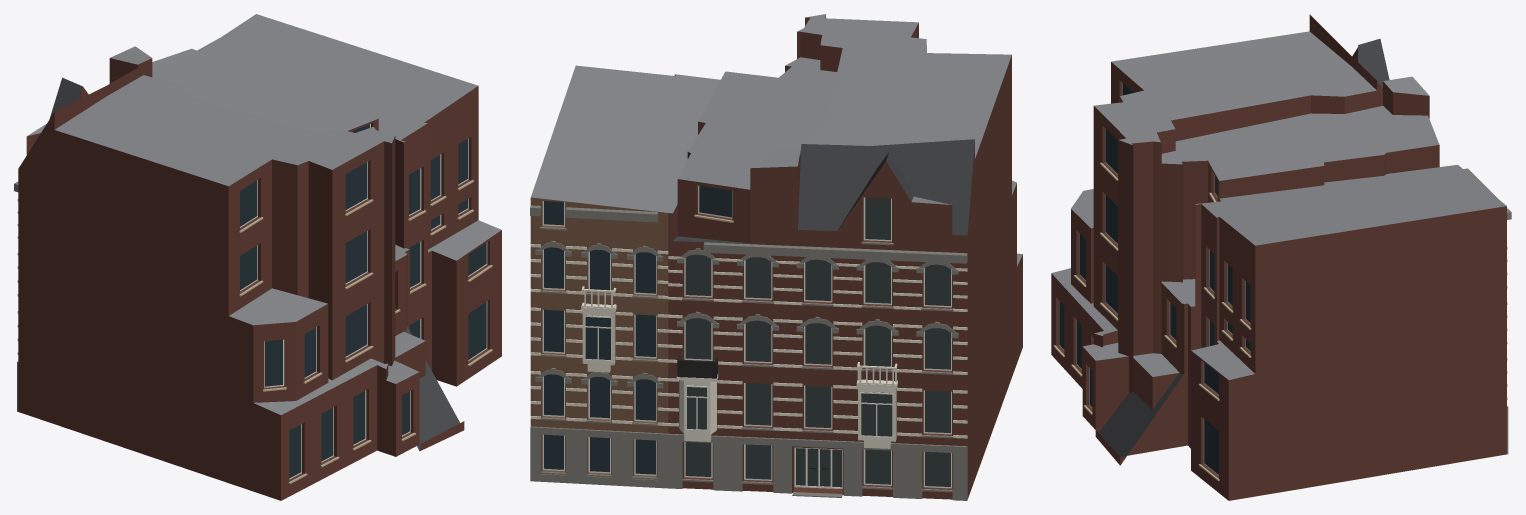
File: recipe-large-van-eeghenstraat-97-237151.glb
3 views of the same model, side by side, from view 1: azimuth 30°, elevation 25°; view 2: azimuth 150°, elevation 25°; view 3: azimuth 270°, elevation 25° (orthographic). The views are drawn at different scales.
Parts seen in each view (by area): view 1: van-eeghenstraat-97-237151; view 2: van-eeghenstraat-97-237151; view 3: van-eeghenstraat-97-237151.
Boxes of the visible parts, <box> form: van-eeghenstraat-97-237151: <box>14,14,501,500</box>; van-eeghenstraat-97-237151: <box>530,14,1022,500</box>; van-eeghenstraat-97-237151: <box>1051,14,1511,500</box>.
Size of the model in its own units: 25.51 by 18.61 by 25.27.
